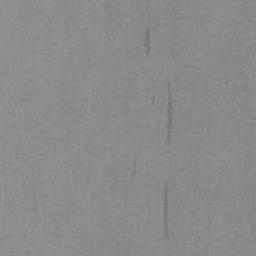Inclusion: (165, 82, 174, 142), (163, 179, 170, 239), (142, 28, 152, 54), (129, 154, 138, 179)
